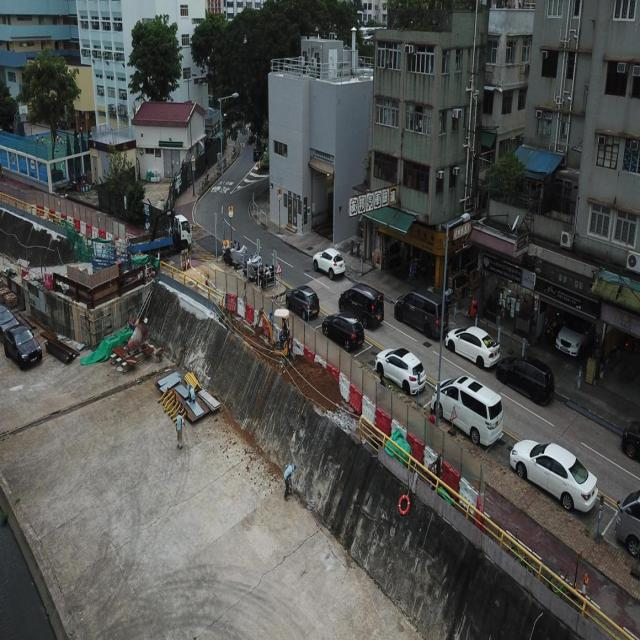car: (509, 439, 598, 513), (496, 354, 554, 405), (374, 347, 426, 396), (444, 325, 500, 369), (3, 324, 42, 370), (614, 489, 640, 557), (555, 316, 596, 357), (322, 313, 364, 352), (285, 284, 320, 322), (312, 247, 346, 280), (621, 419, 640, 459)
person: (123, 316, 148, 356), (283, 460, 296, 500), (175, 409, 185, 449)
tree: (20, 44, 81, 170), (126, 12, 183, 103)
